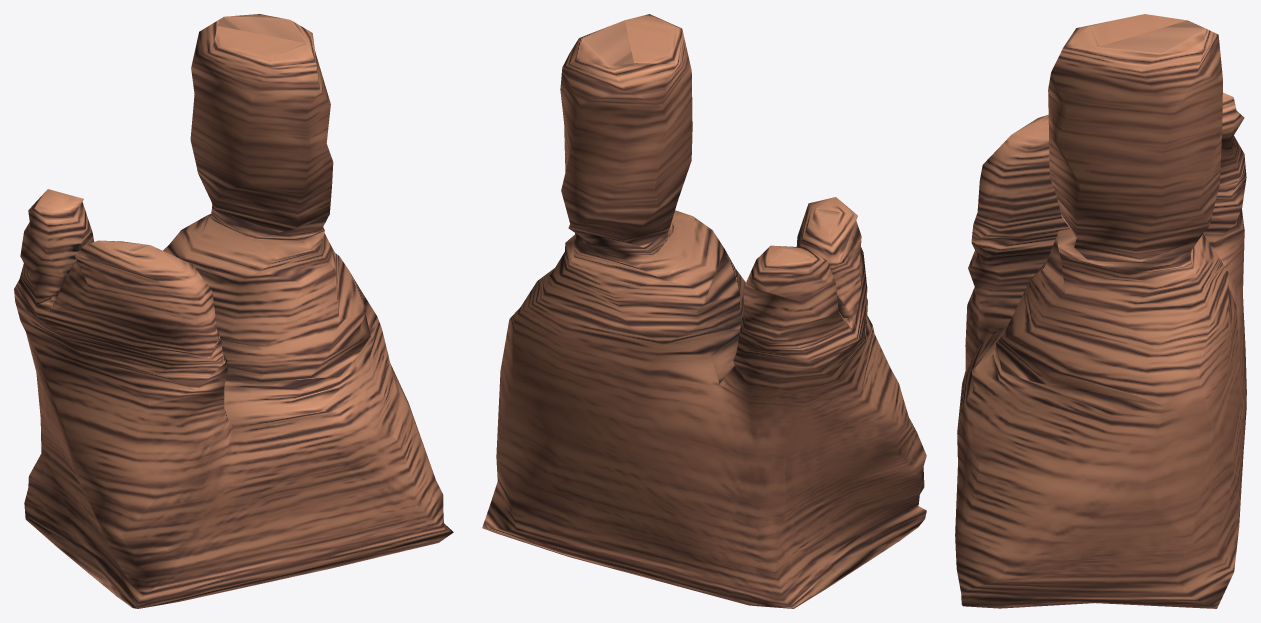
The model's file is Desert_rock_7.fbx.
The picture shows the model from 3 angles, left to right: view 1: azimuth 30°, elevation 25°; view 2: azimuth 150°, elevation 25°; view 3: azimuth 270°, elevation 25°; orthographic projection. The views are drawn at different scales.
Parts seen in each view (by area): view 1: Desert_rock_7; view 2: Desert_rock_7; view 3: Desert_rock_7.
Boxes of the visible parts, left/top/right/bottom form: Desert_rock_7: left=14, top=14, right=453, bottom=608; Desert_rock_7: left=482, top=14, right=926, bottom=608; Desert_rock_7: left=955, top=14, right=1246, bottom=608.
Bounding box in the file's own units: 3.78 × 4.9 × 2.49.
Materials: 1 (1 with a texture image).
